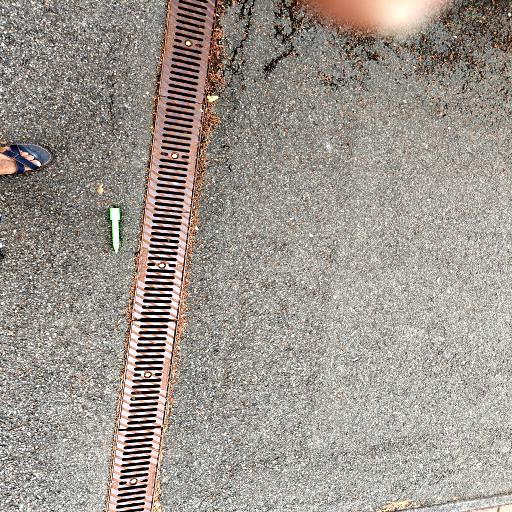Probe-Detection: (110, 208, 120, 253)
